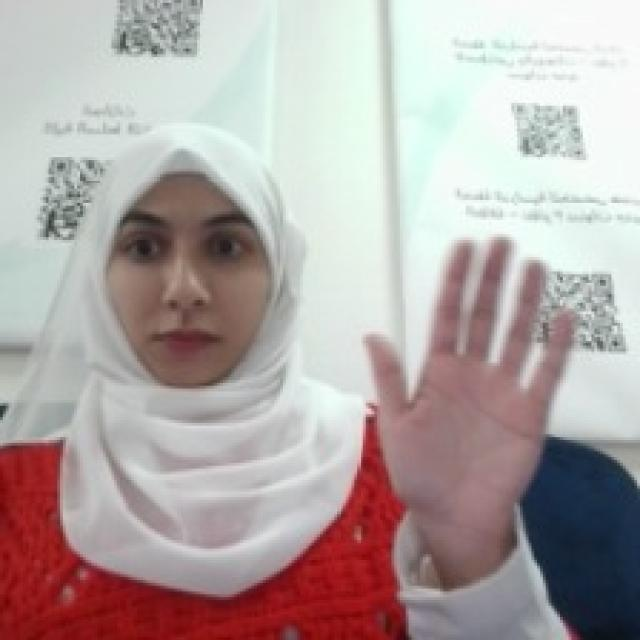Hello: (357, 226, 583, 528)
